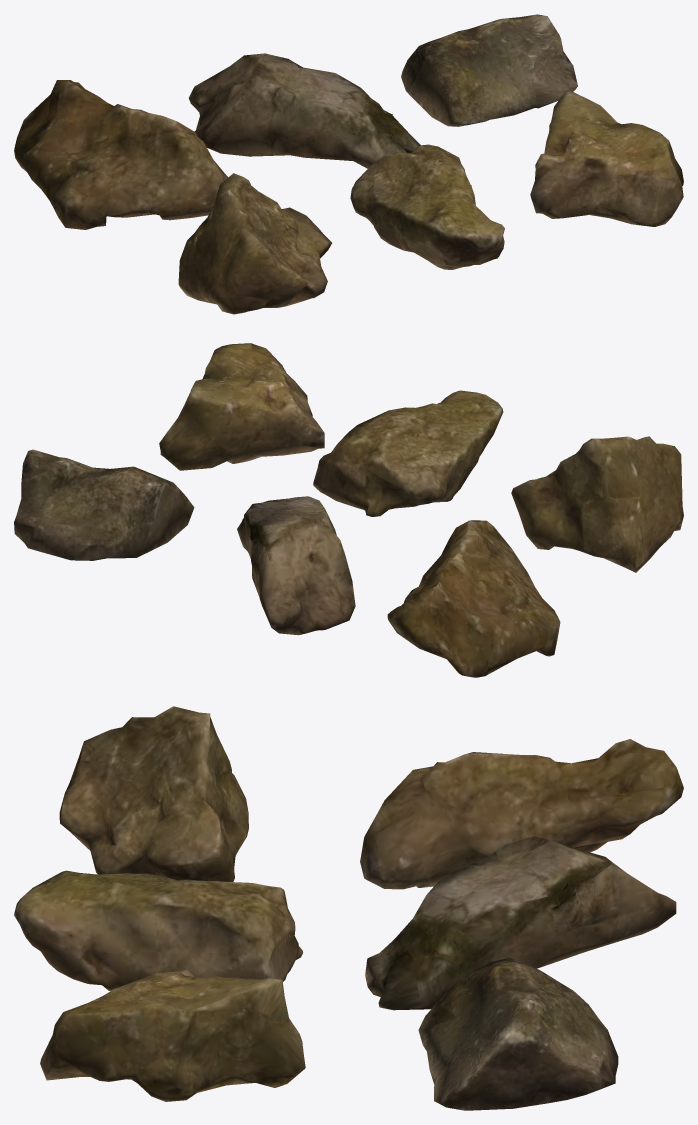
File: rock_moss_set_01_1k_lo.glb
3 views of the same model, one above another, from view 1: azimuth 30°, elevation 25°; view 2: azimuth 150°, elevation 25°; view 3: azimuth 270°, elevation 25° (orthographic). The views are drawn at different scales.
Parts seen in each view (by area): view 1: rock_moss_set_01_rock01, rock_moss_set_01_rock02, rock_moss_set_01_rock06, rock_moss_set_01_rock04, rock_moss_set_01_rock03, rock_moss_set_01_rock05; view 2: rock_moss_set_01_rock04, rock_moss_set_01_rock01, rock_moss_set_01_rock05, rock_moss_set_01_rock03, rock_moss_set_01_rock06, rock_moss_set_01_rock02; view 3: rock_moss_set_01_rock01, rock_moss_set_01_rock02, rock_moss_set_01_rock05, rock_moss_set_01_rock06, rock_moss_set_01_rock04, rock_moss_set_01_rock03.
Boxes of the visible parts, bbox=[...] form: rock_moss_set_01_rock01: bbox=[14, 80, 227, 229]; rock_moss_set_01_rock02: bbox=[189, 53, 420, 168]; rock_moss_set_01_rock06: bbox=[530, 90, 683, 226]; rock_moss_set_01_rock04: bbox=[178, 173, 331, 314]; rock_moss_set_01_rock03: bbox=[401, 14, 577, 126]; rock_moss_set_01_rock05: bbox=[350, 144, 504, 269]; rock_moss_set_01_rock04: bbox=[511, 436, 683, 572]; rock_moss_set_01_rock01: bbox=[387, 520, 560, 677]; rock_moss_set_01_rock05: bbox=[313, 390, 503, 516]; rock_moss_set_01_rock03: bbox=[14, 449, 194, 560]; rock_moss_set_01_rock06: bbox=[159, 343, 324, 470]; rock_moss_set_01_rock02: bbox=[237, 496, 355, 635]; rock_moss_set_01_rock01: bbox=[360, 739, 683, 889]; rock_moss_set_01_rock02: bbox=[365, 836, 676, 1010]; rock_moss_set_01_rock05: bbox=[14, 870, 302, 990]; rock_moss_set_01_rock06: bbox=[40, 969, 305, 1101]; rock_moss_set_01_rock04: bbox=[59, 706, 248, 881]; rock_moss_set_01_rock03: bbox=[418, 958, 618, 1110].
Size of the model in its own units: 8 by 1.76 by 6.94.
Materials: 1 (1 with a texture image).
